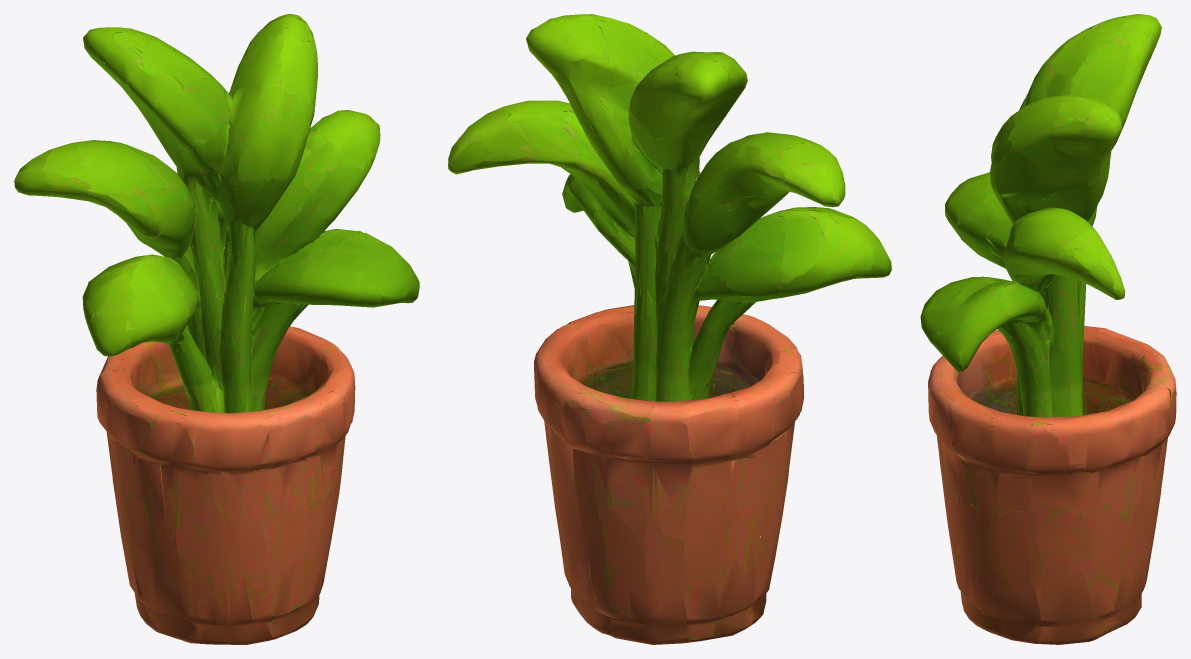
File: plant.glb
The picture shows the model from 3 angles, left to right: view 1: azimuth 30°, elevation 25°; view 2: azimuth 150°, elevation 25°; view 3: azimuth 270°, elevation 25°; orthographic projection. The views are drawn at different scales.
Visible parts, largest first — view 1: Mesh_0; view 2: Mesh_0; view 3: Mesh_0.
Boxes of the visible parts, box(x1,y1,x2,y2) form: Mesh_0: box(14, 14, 419, 644); Mesh_0: box(448, 14, 891, 644); Mesh_0: box(920, 14, 1176, 644).
Bounding box in the file's own units: 1.28 × 1.9 × 0.7923.
1 material, 1 textured.
